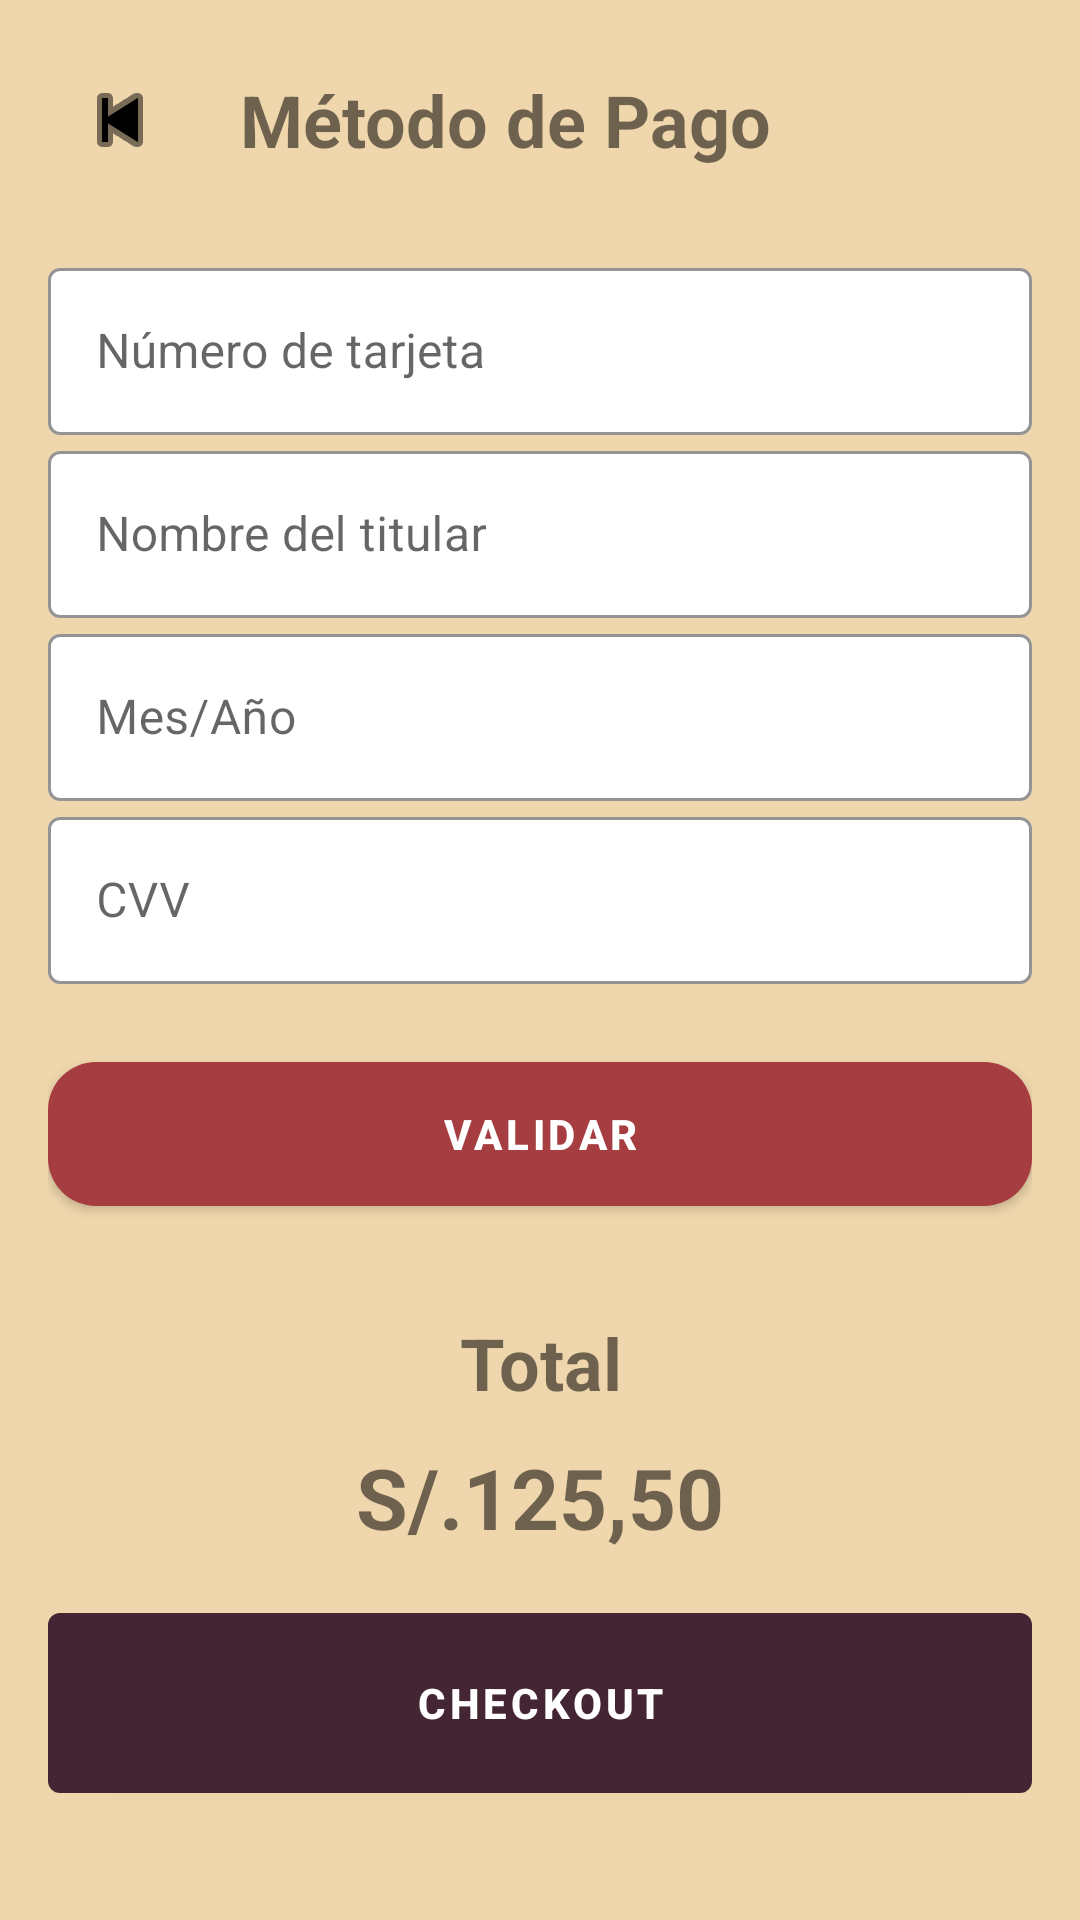

Screen size 1080px x 1920px. Icon name, then its center in pixels as [x,y]:
regresar: [120,120]
